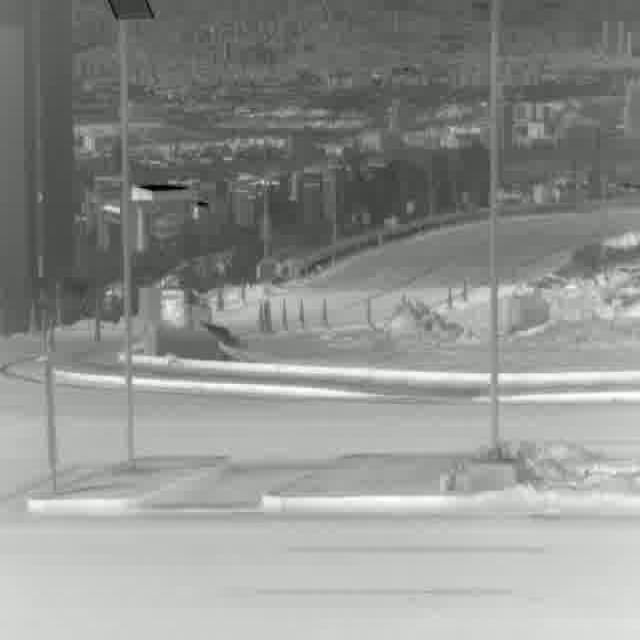Car: (162, 282, 212, 334)
